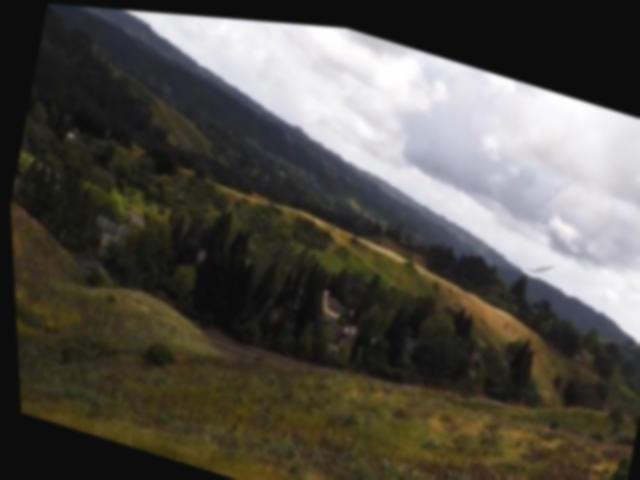iha: (521, 249, 552, 270)
